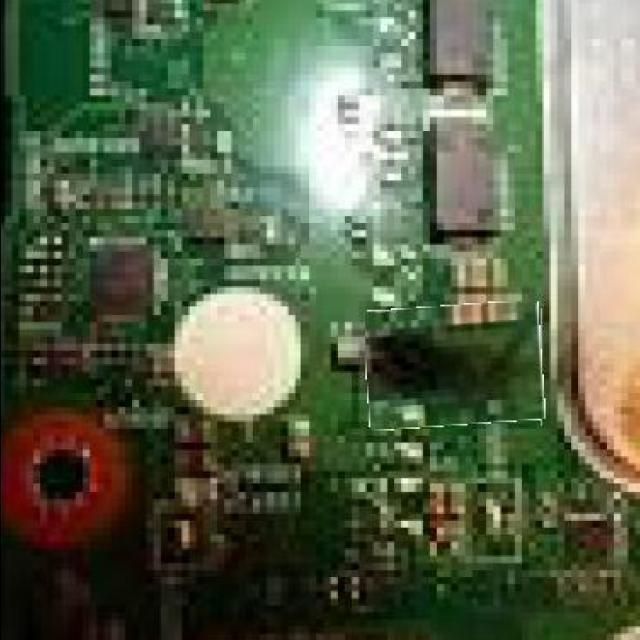Burn: (364, 302, 542, 428)
